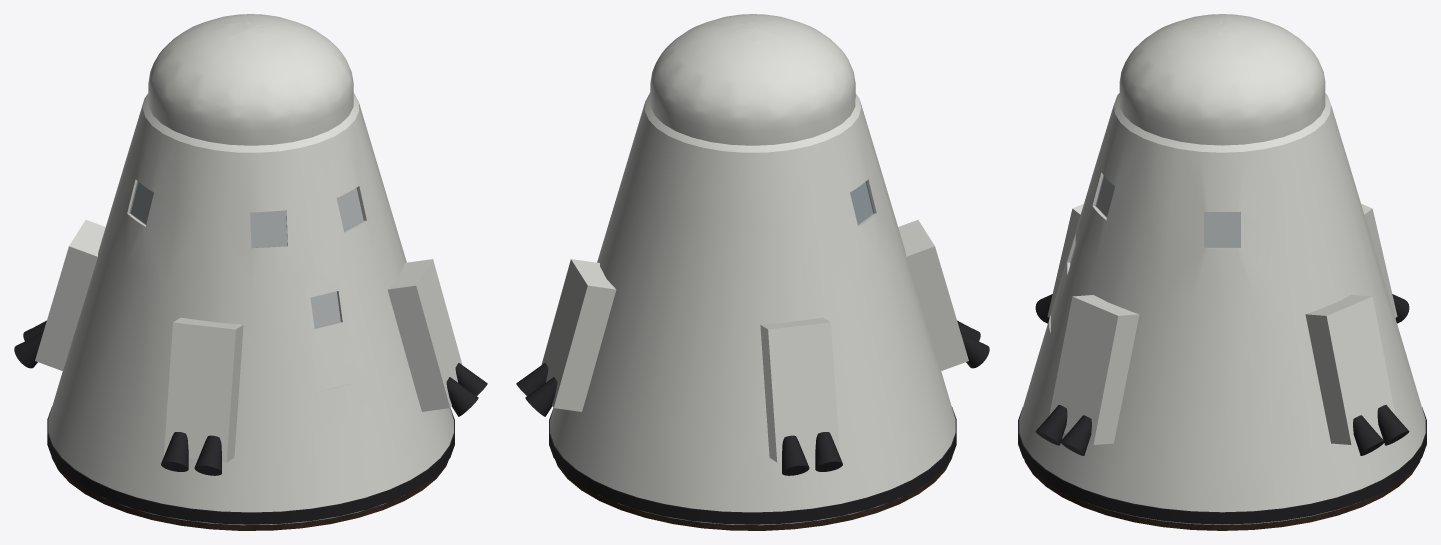
The model's file is cmd05_dragon_capsule.glb.
The picture shows the model from 3 angles, left to right: view 1: azimuth 30°, elevation 25°; view 2: azimuth 150°, elevation 25°; view 3: azimuth 270°, elevation 25°; orthographic projection.
Parts seen in each view (by area): view 1: pressure_hull, nosecone, superdraco_pods, trunk_band, superdraco_nozzles, windows, heat_shield; view 2: pressure_hull, nosecone, superdraco_pods, trunk_band, superdraco_nozzles, heat_shield, windows; view 3: pressure_hull, nosecone, superdraco_pods, trunk_band, superdraco_nozzles, heat_shield, windows.
Boxes of the visible parts, x1,y1,x2,y2 form: pressure_hull: (48, 92, 453, 525); nosecone: (148, 14, 353, 145); superdraco_pods: (35, 220, 462, 462); trunk_band: (47, 407, 454, 524); superdraco_nozzles: (14, 320, 487, 475); windows: (129, 181, 363, 327); heat_shield: (51, 457, 448, 530); pressure_hull: (550, 92, 955, 525); nosecone: (650, 14, 855, 145); superdraco_pods: (541, 220, 968, 462); trunk_band: (549, 407, 956, 524); superdraco_nozzles: (516, 320, 989, 475); heat_shield: (555, 457, 952, 530); windows: (850, 181, 874, 224); pressure_hull: (1019, 93, 1425, 524); nosecone: (1119, 14, 1325, 145); superdraco_pods: (1047, 203, 1397, 444); trunk_band: (1018, 407, 1426, 524); superdraco_nozzles: (1035, 294, 1409, 455); heat_shield: (1024, 460, 1420, 530); windows: (1070, 175, 1240, 265).
Size of the model in its own units: 3.77 by 4.59 by 3.77.
Materials: 5 (2 with a texture image).
